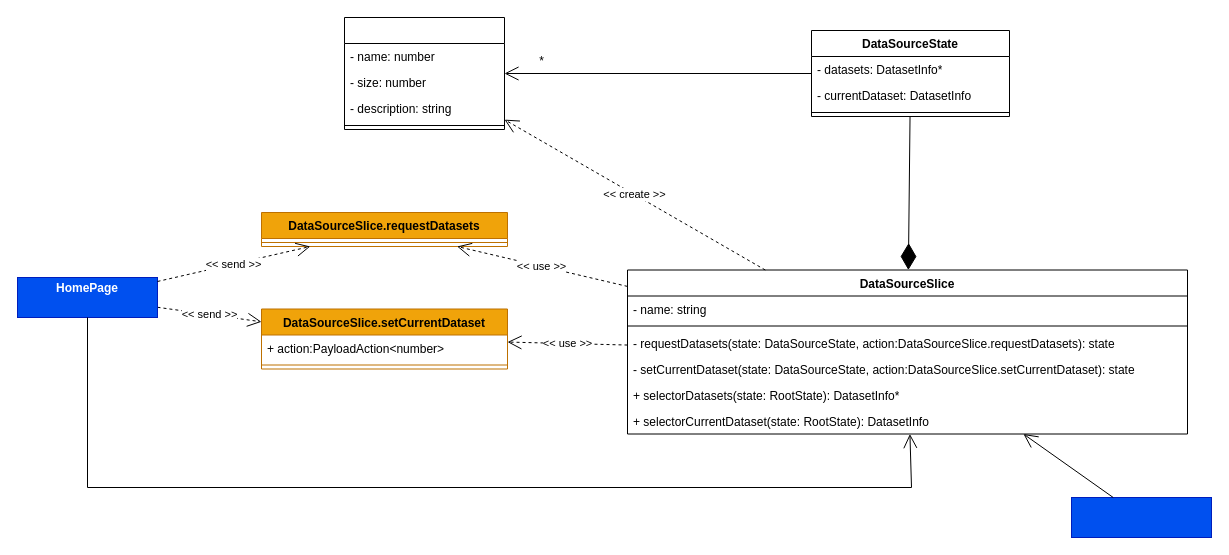
Some shapes in this 1229 by 555 pixel diagram are drawn without their labels. Here are the shapes that lost their labels. From the top down, the box of each, then its label:
(344, 16, 504, 130): DatasetInfo
(1070, 496, 1212, 538): EnvironmentPage
